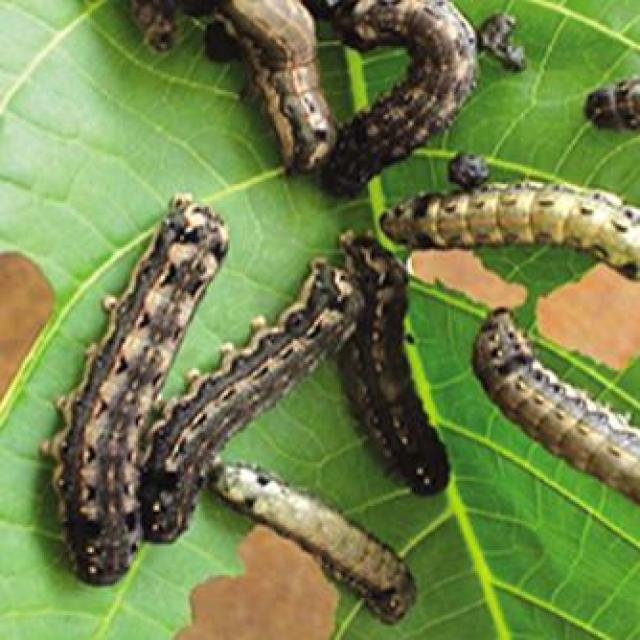armyworm: (34, 193, 235, 589), (139, 246, 361, 553), (323, 221, 480, 503), (206, 455, 426, 632), (467, 287, 639, 499), (302, 1, 478, 208), (143, 1, 342, 179), (371, 170, 639, 287)
